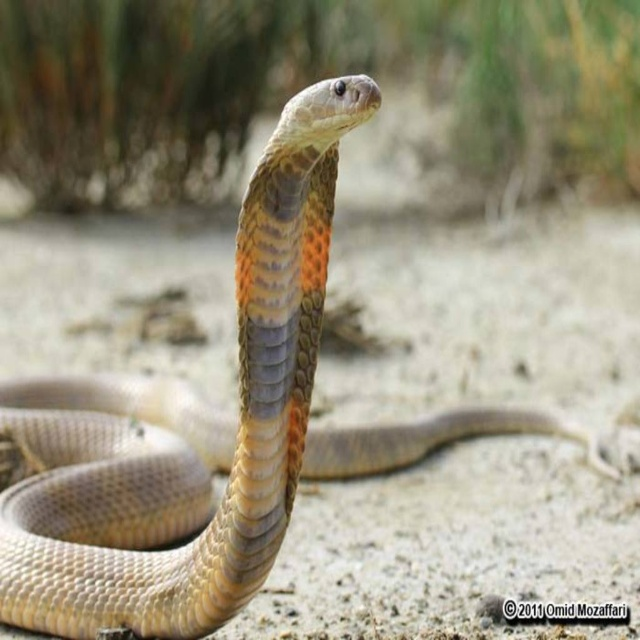Snake: (0, 69, 621, 639)
